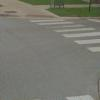Crosswalk: (41, 13, 100, 60)
